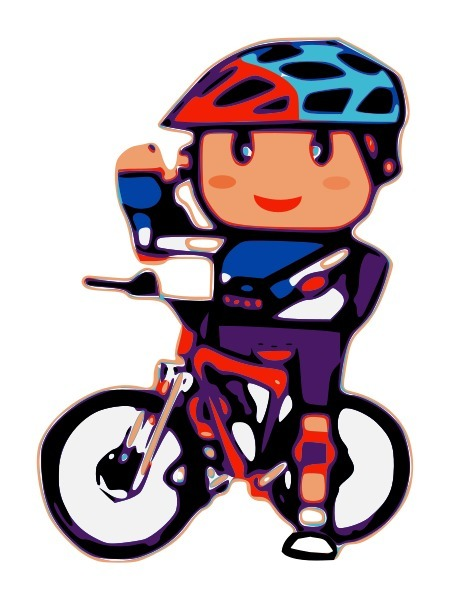bicycle: (21, 270, 418, 555)
person: (105, 34, 411, 547)
